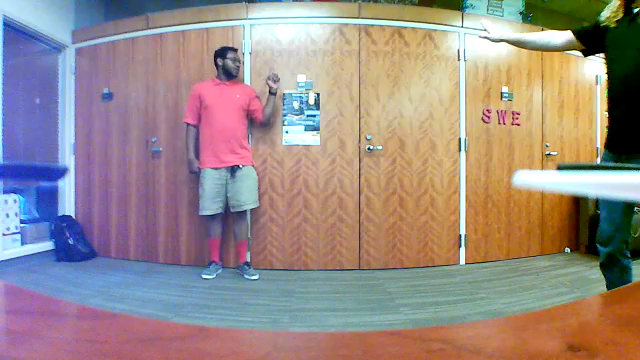up: (266, 63, 283, 95)
